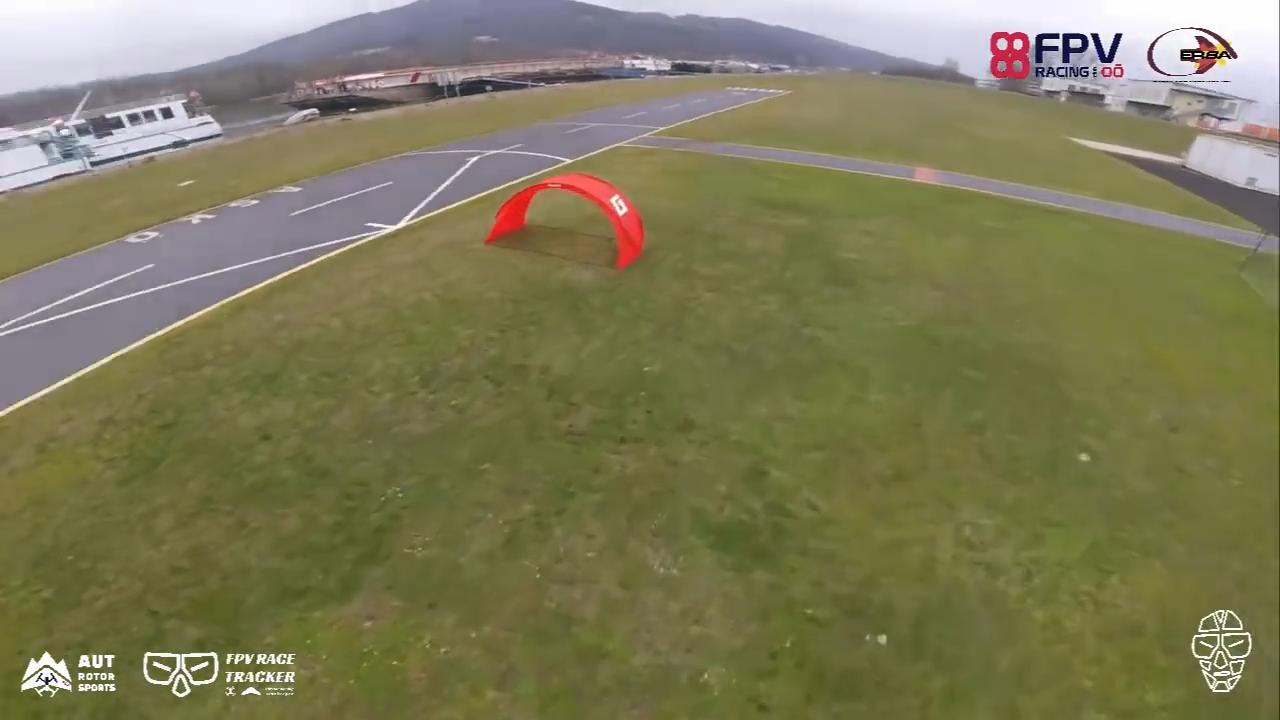gate: (485, 171, 646, 274)
